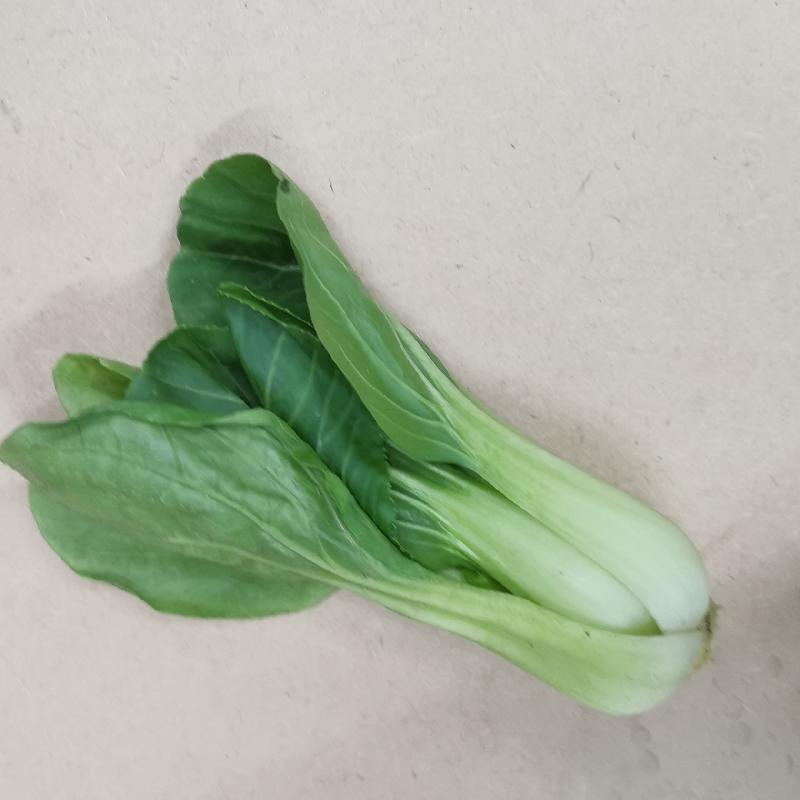green vegatable: (2, 148, 721, 736)
